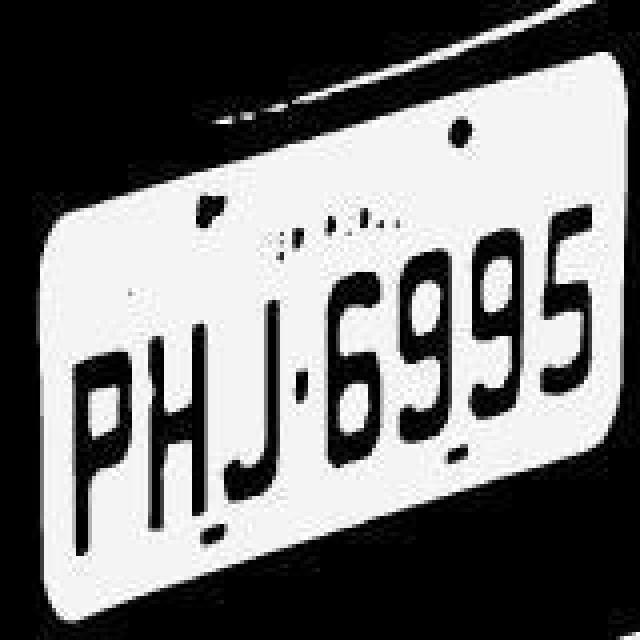5: (530, 188, 598, 404)
6: (316, 252, 388, 468)
9: (460, 208, 532, 424), (386, 228, 454, 444)
H: (140, 304, 212, 528)
J: (212, 278, 284, 506)
P: (64, 328, 136, 552)
